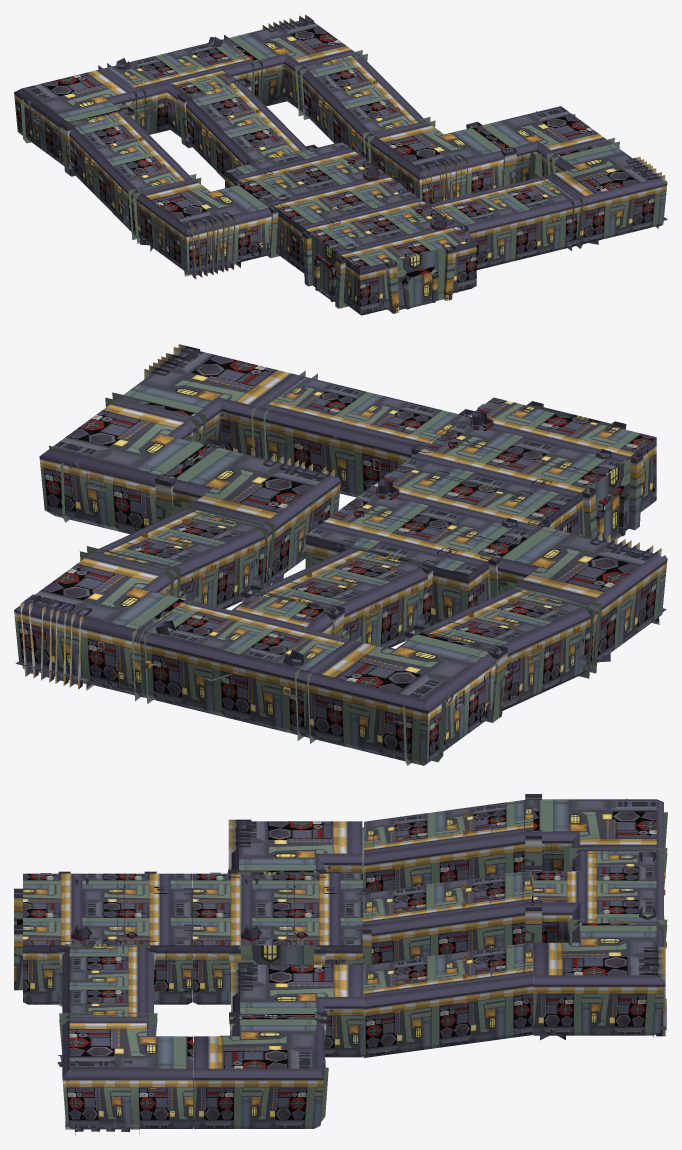
Rendered from Combined_Mesh_root_scene__6_2d4a9e78__zombies2_diffuse_07_65562b6b_c1f257.obj.
3 views of the same model, one above another, from view 1: azimuth 30°, elevation 25°; view 2: azimuth 150°, elevation 25°; view 3: azimuth 270°, elevation 25° (orthographic). The views are drawn at different scales.
Bounding box in the file's own units: 71.92 × 12.27 × 77.15.
Materials: 202 (202 with a texture image).
